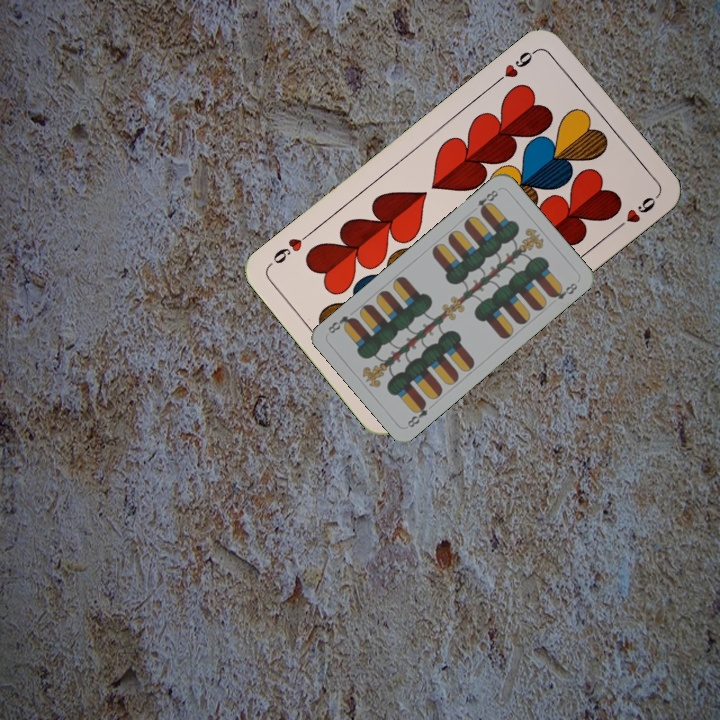E8: (403, 397, 430, 430), (473, 186, 501, 216)
H9: (491, 44, 541, 87)
